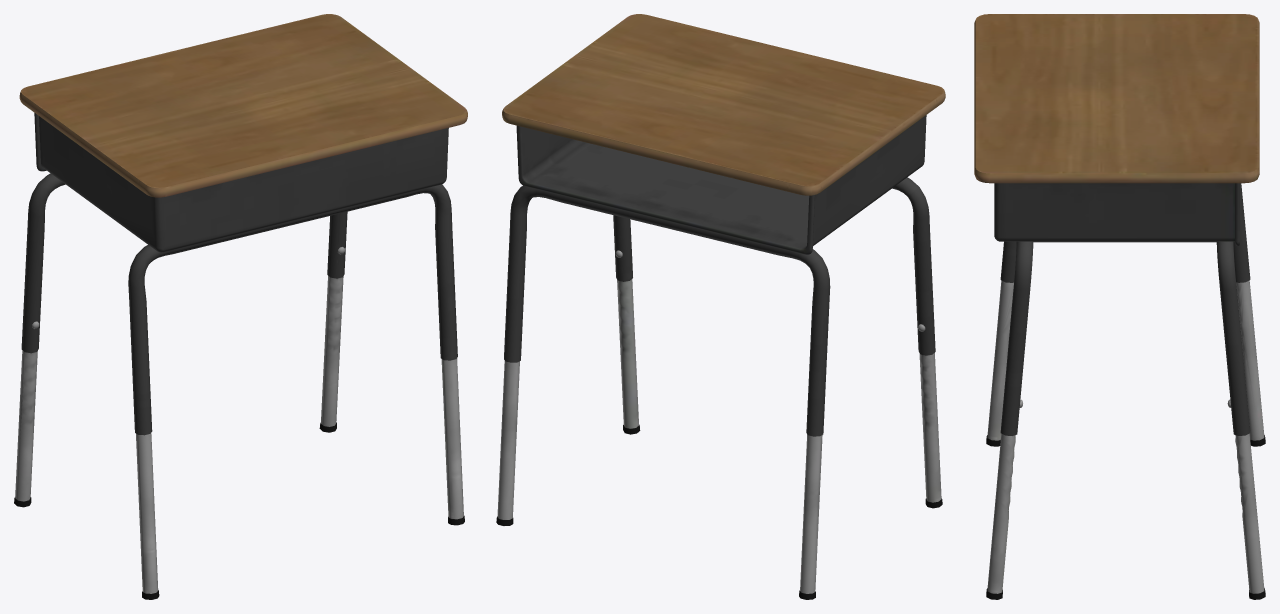
Rendered from SchoolDesk_01.glb.
The picture shows the model from 3 angles, left to right: view 1: azimuth 30°, elevation 25°; view 2: azimuth 150°, elevation 25°; view 3: azimuth 270°, elevation 25°; orthographic projection. The views are drawn at different scales.
Parts seen in each view (by area): view 1: SchoolDesk_01; view 2: SchoolDesk_01; view 3: SchoolDesk_01.
Boxes of the visible parts, <box> form: SchoolDesk_01: <box>14,14,467,599</box>; SchoolDesk_01: <box>496,14,945,599</box>; SchoolDesk_01: <box>974,14,1265,599</box>.
Size of the model in its own units: 0.7117 by 0.8826 by 0.546.
Materials: 1 (1 with a texture image).
